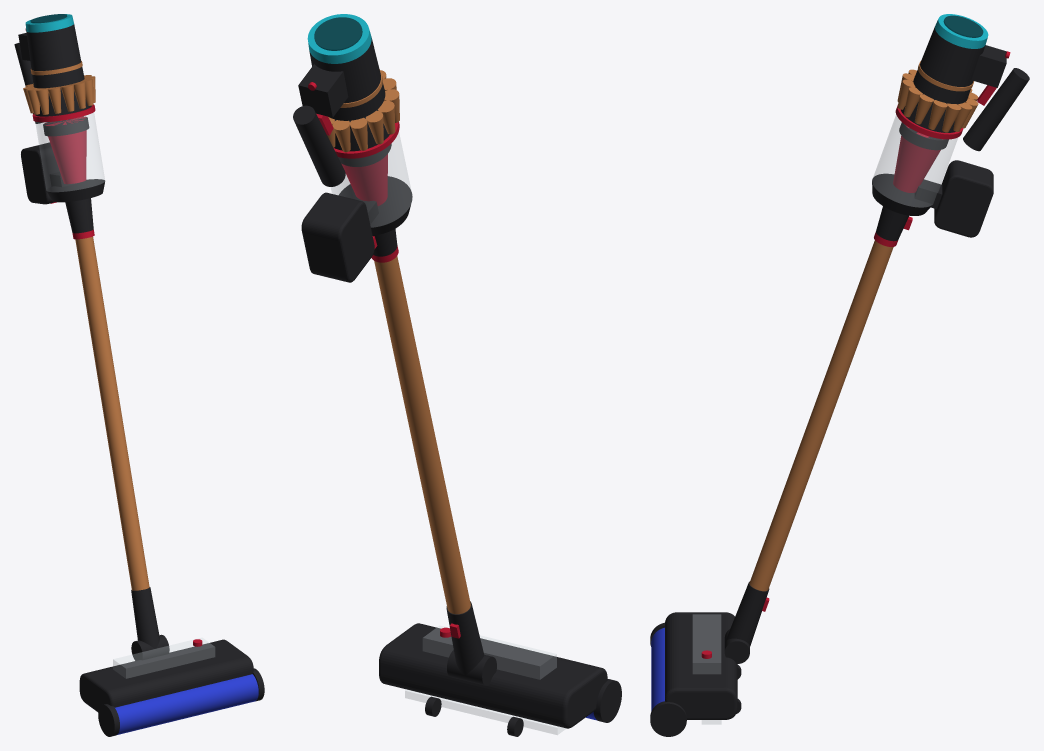
The model's file is models-v16.glb.
3 renders of one model, left to right at view 1: azimuth 30°, elevation 25°; view 2: azimuth 150°, elevation 25°; view 3: azimuth 270°, elevation 25°, orthographic. The views are drawn at different scales.
Visible parts, largest first — view 1: head_housing, wand, bin, wet_roller, motor_body, clean_water_tank, cyclone_shroud, battery, neck, bin_base, wand_connector, shroud_mesh (+4 smaller); view 2: head_housing, wand, battery, bin, clean_water_tank, motor_body, grip, motor_rear_mount, bin_base, neck, cyclone_shroud, screen_ring (+5 smaller); view 3: wand, head_housing, bin, battery, motor_body, grip, cyclone_shroud, clean_water_tank, bin_base, neck, roller_endcap_R, motor_rear_mount (+5 smaller).
Boxes of the visible parts, x1,y1,x2,y2 form: head_housing: [79, 639, 253, 712]; wand: [75, 236, 149, 590]; bin: [35, 112, 104, 191]; wet_roller: [115, 674, 258, 734]; motor_body: [26, 24, 84, 88]; clean_water_tank: [113, 638, 214, 678]; cyclone_shroud: [45, 116, 86, 184]; battery: [21, 142, 59, 204]; neck: [131, 587, 159, 649]; bin_base: [46, 179, 105, 202]; wand_connector: [65, 198, 93, 233]; shroud_mesh: [43, 116, 89, 136]; head_housing: [379, 623, 607, 728]; wand: [374, 256, 470, 614]; battery: [301, 192, 374, 282]; bin: [331, 133, 412, 227]; clean_water_tank: [423, 626, 556, 679]; motor_body: [309, 37, 385, 120]; grip: [293, 105, 345, 186]; motor_rear_mount: [298, 64, 348, 117]; bin_base: [338, 176, 412, 235]; neck: [446, 601, 484, 675]; cyclone_shroud: [341, 154, 387, 205]; screen_ring: [307, 14, 371, 63]; wand: [749, 240, 893, 591]; head_housing: [665, 612, 737, 719]; bin: [872, 115, 957, 207]; battery: [934, 160, 993, 237]; motor_body: [913, 27, 985, 103]; grip: [963, 68, 1029, 151]; cyclone_shroud: [893, 126, 942, 192]; clean_water_tank: [693, 614, 720, 673]; bin_base: [872, 173, 932, 215]; neck: [725, 581, 769, 646]; roller_endcap_R: [650, 701, 686, 736]; motor_rear_mount: [971, 45, 1006, 87].
Size of the model in its own units: 0.336 by 1.3 by 0.6621.
